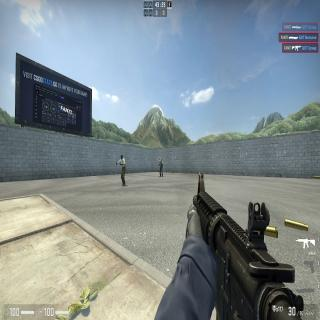CT-Body: (160, 159, 163, 177)
CT-Head: (160, 158, 162, 162)
T-Body: (120, 155, 126, 186)
T-Head: (120, 154, 122, 160)
